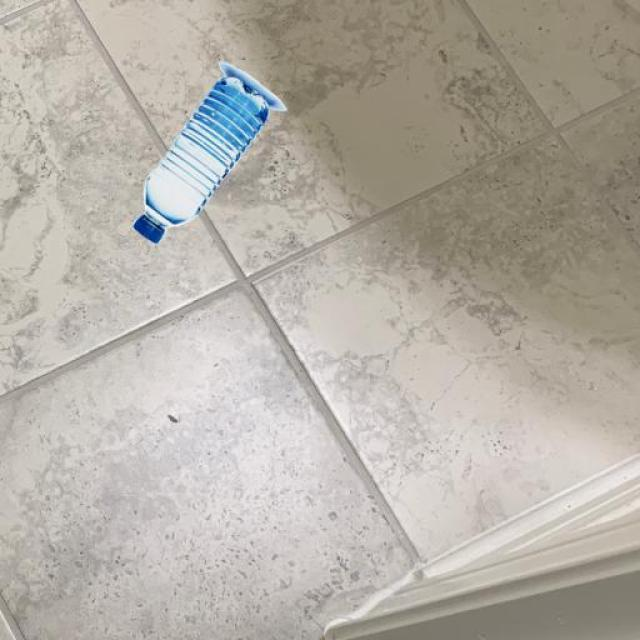bottle: (130, 59, 286, 245)
